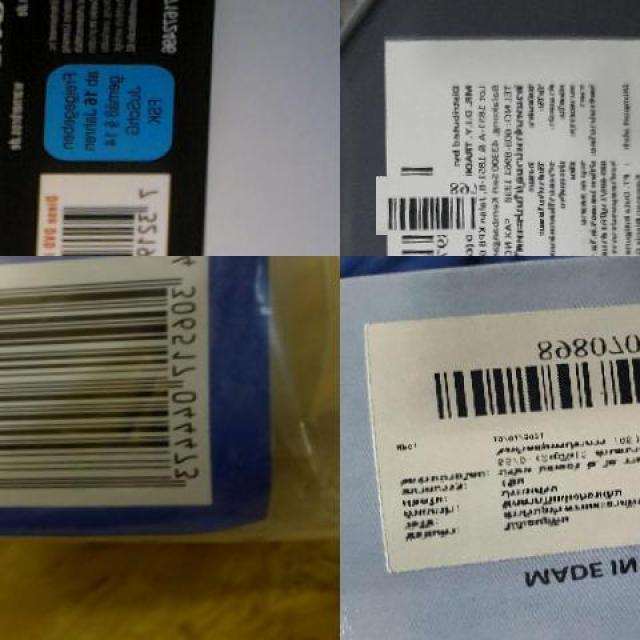Barcode: (0, 256, 208, 517), (423, 318, 640, 424), (29, 164, 176, 256), (386, 165, 466, 246)
